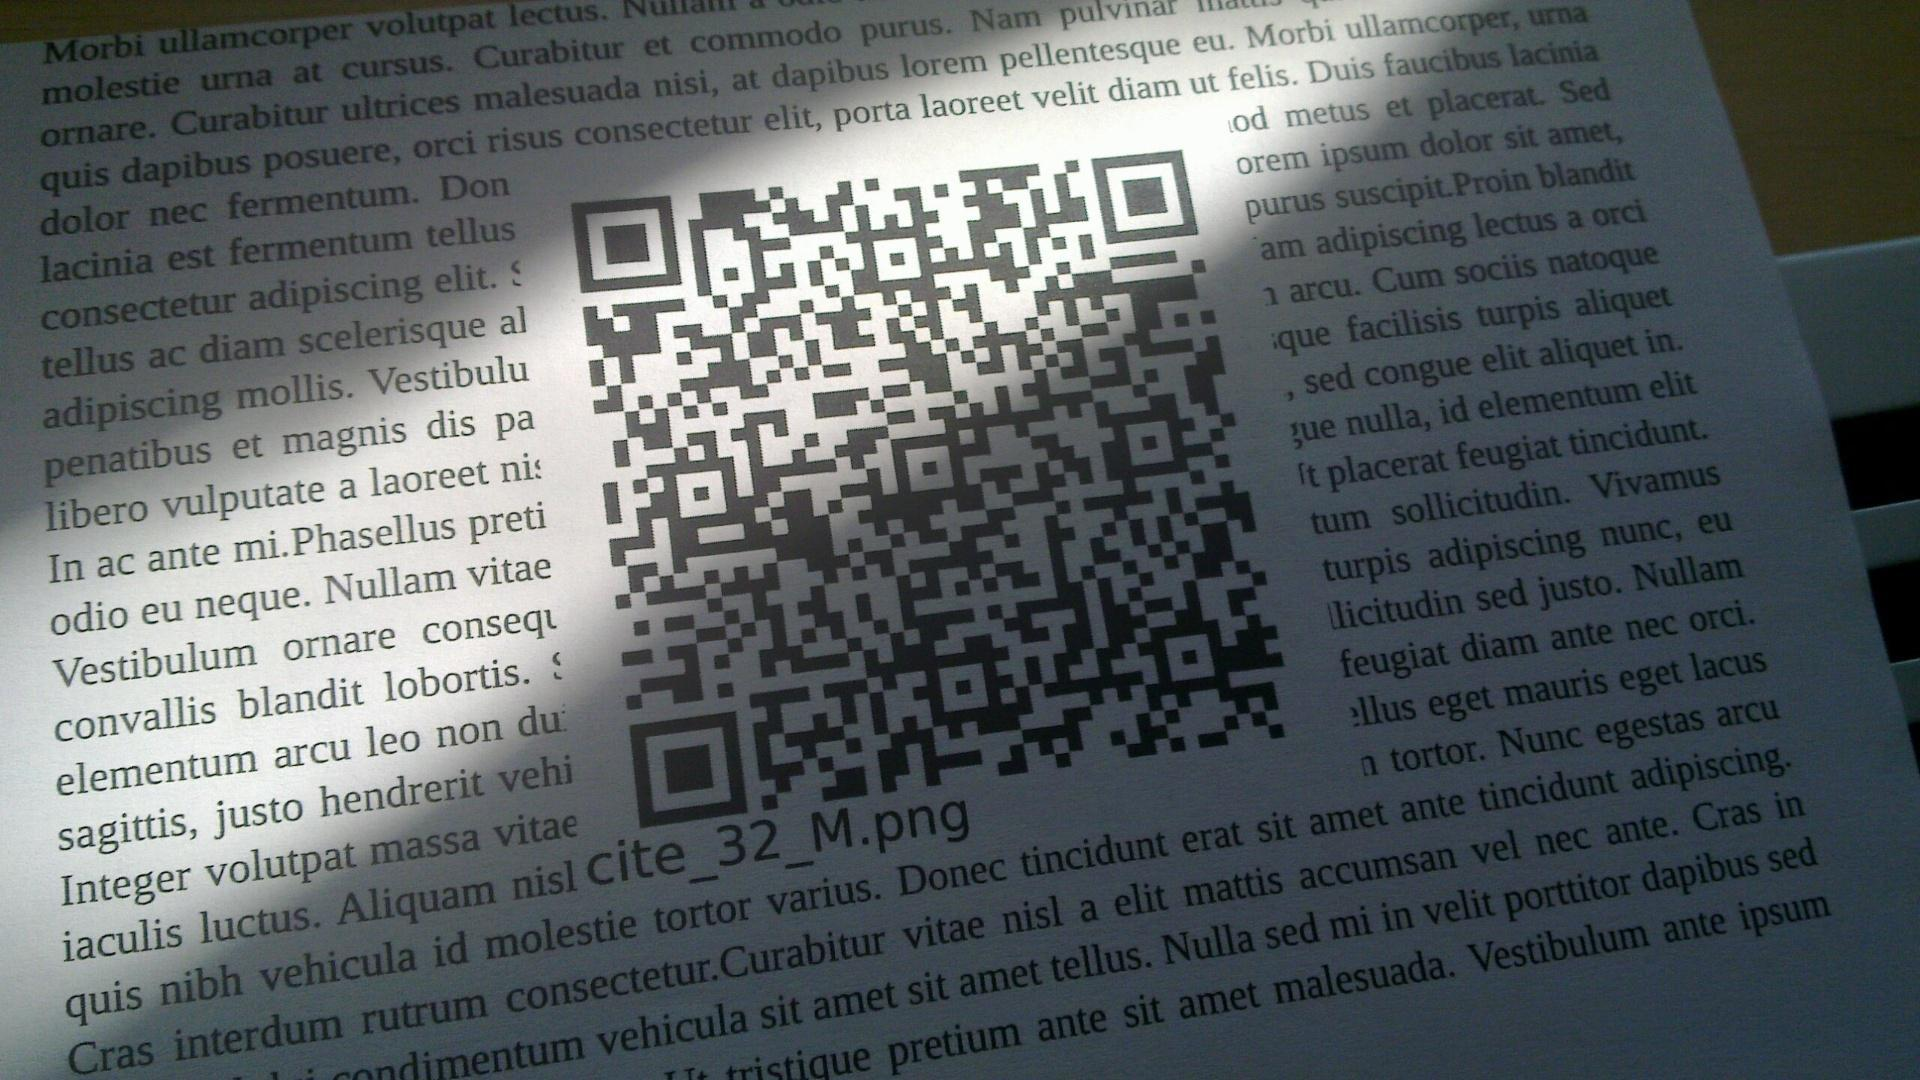Finder pattern: (621, 708, 756, 831), (1083, 140, 1207, 255), (564, 189, 691, 301)
